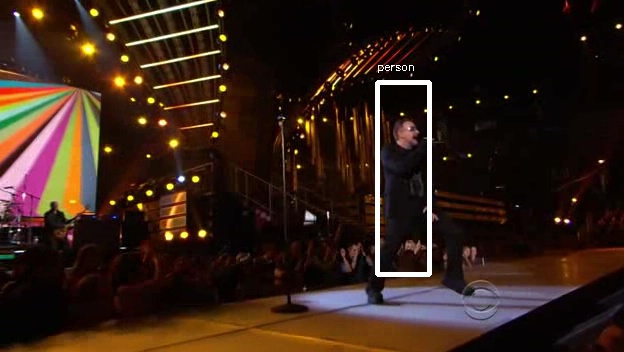person: (379, 125, 446, 247), (376, 125, 443, 247), (382, 125, 449, 247), (379, 122, 446, 244), (379, 128, 446, 250)
target_negative: (142, 55, 569, 236), (231, 37, 485, 302), (530, 90, 587, 298), (526, 75, 568, 166), (238, 344, 359, 349), (611, 152, 615, 216)
